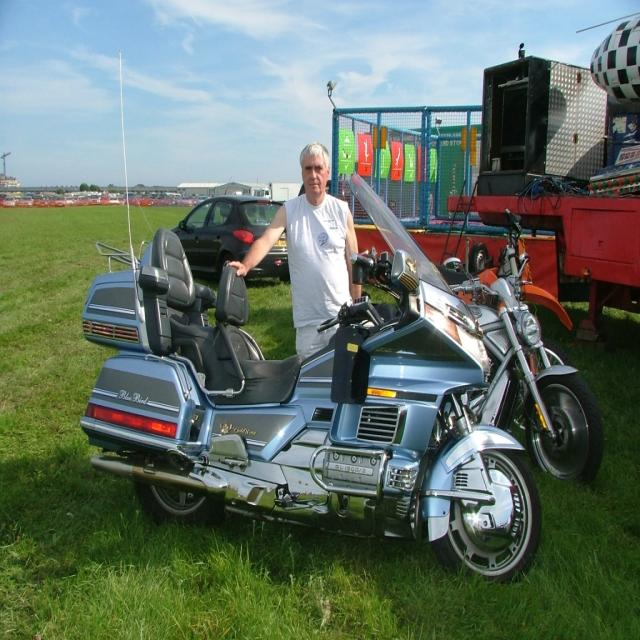Motorbikes: (91, 238, 550, 604)
Passenger Car: (162, 185, 288, 291)
Pedestrians: (274, 134, 362, 350)
